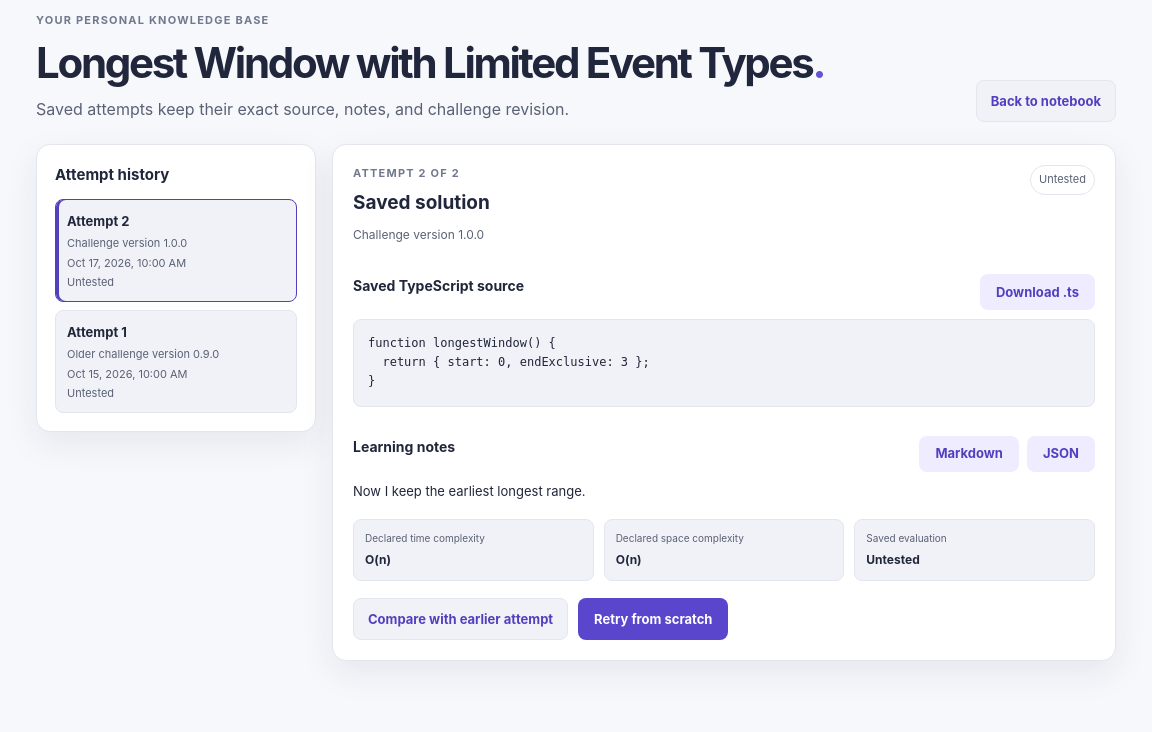
Test: Notebook challenge detail › shows an explicit error when a private attempt export cannot be created
The image size is (1152, 732).
Click the button with aria-label "Download TypeScript source": coordinates (1037, 292) [980,274,1095,310]
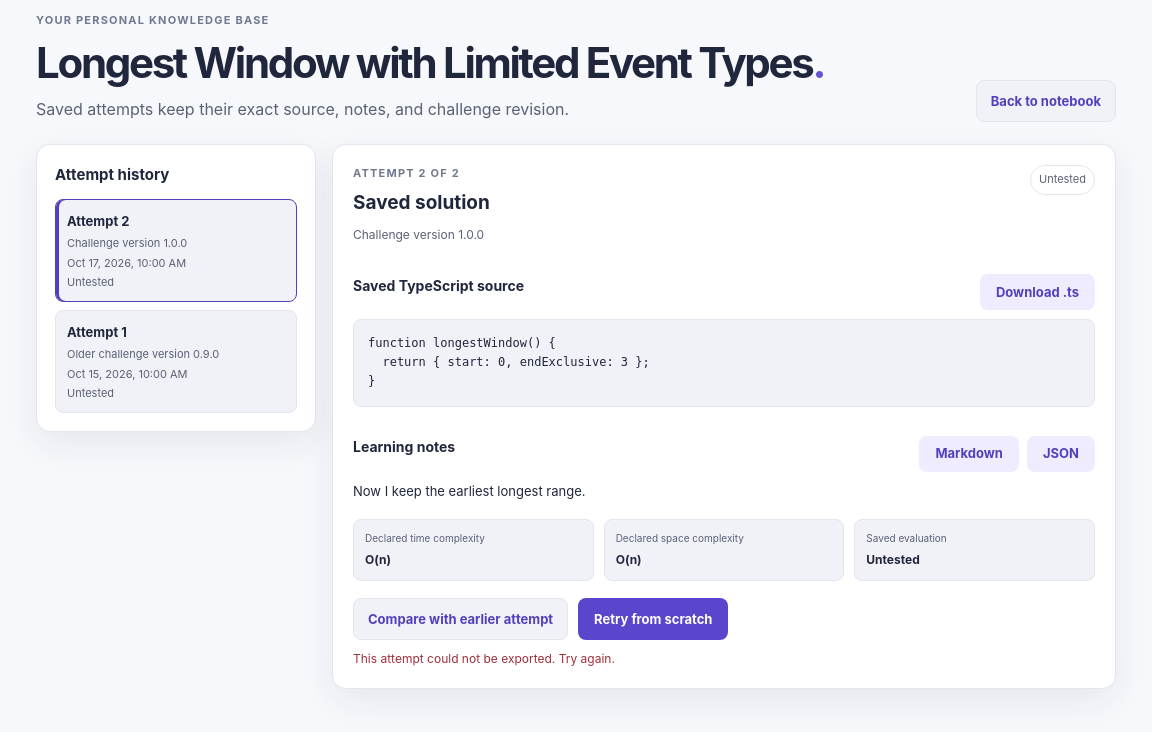
Now the message "This attempt could not be exported. Try again." is shown, box [353,651,615,666]
